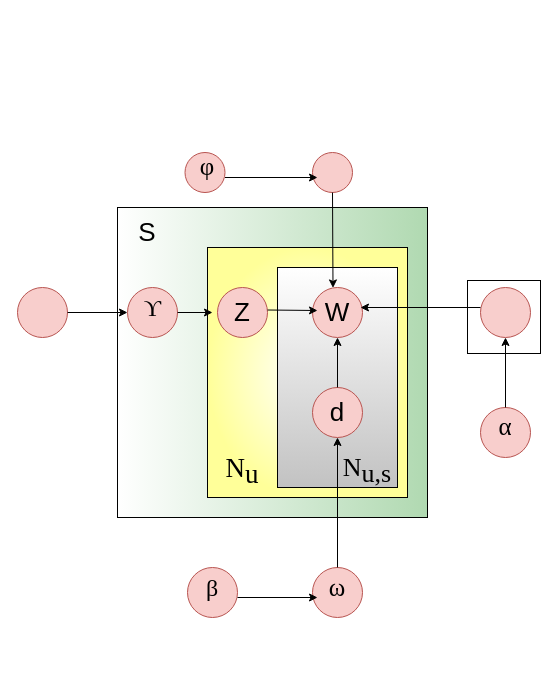
Image size: 558x677. Some labels were removed from this diagram. Each missing label, with the box of its shape:
ζ b: (312, 152, 352, 192)
ζ k: (480, 286, 530, 338)
λ a: (16, 286, 68, 338)
